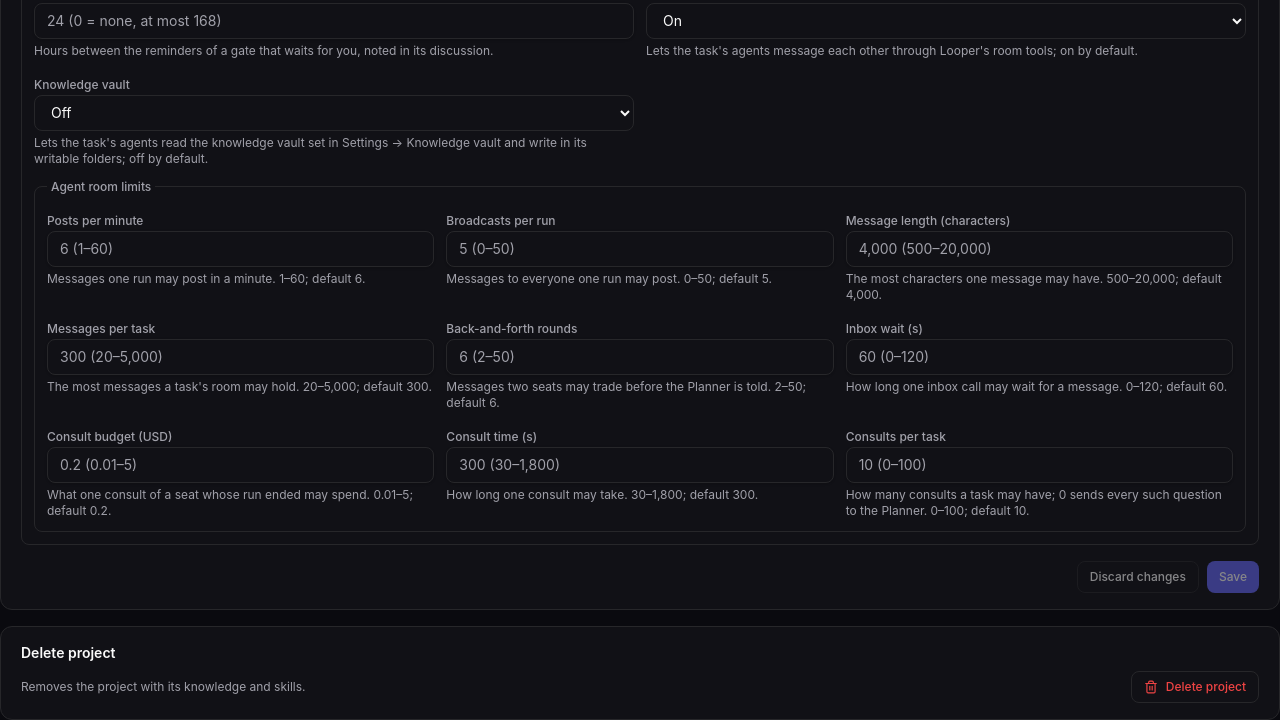
Test: project deletion › offers deletion and only nonzero impact clauses: {}
The width and height of the screenshot is (1280, 720).
(page scrolled)
Expected: the text "Removes the project with its knowledge and skills." is shown, [21,678,306,694]
Click the button "Delete project": point(1195, 686) [1131,670,1259,702]
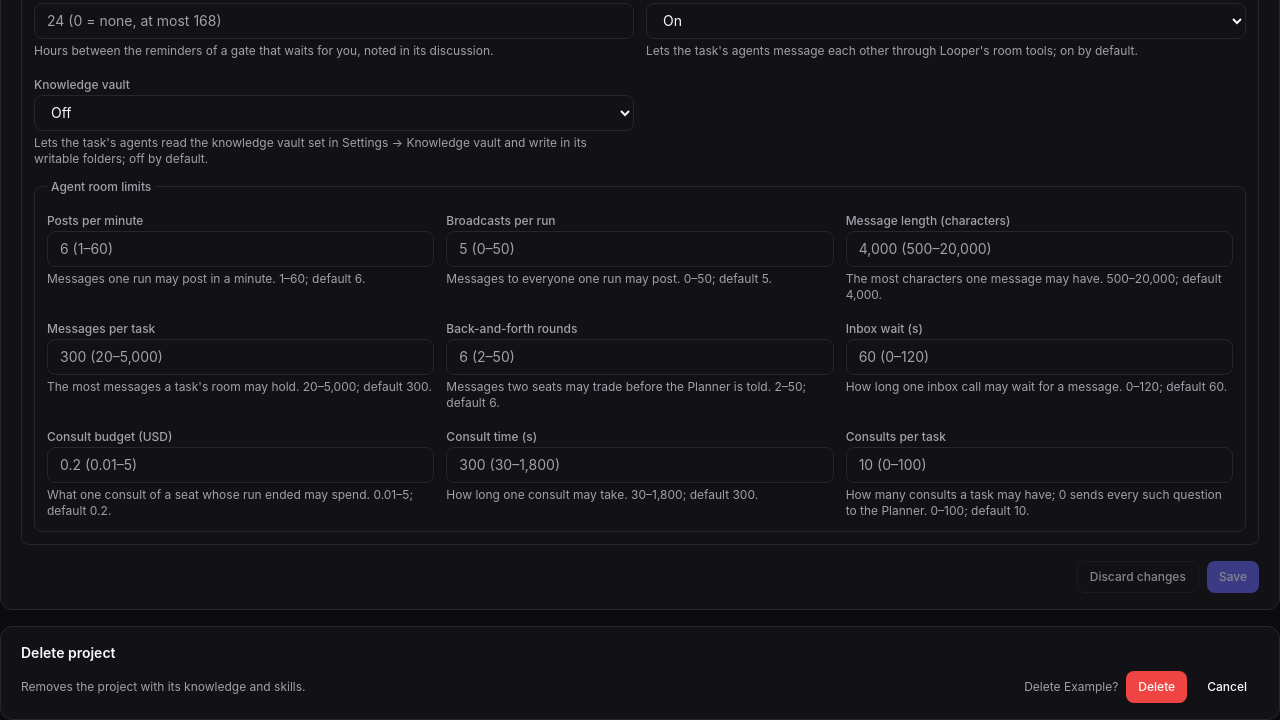
Expected: the element that starts with "Delete project" shows "Delete Example?", [0,626,1279,719]
